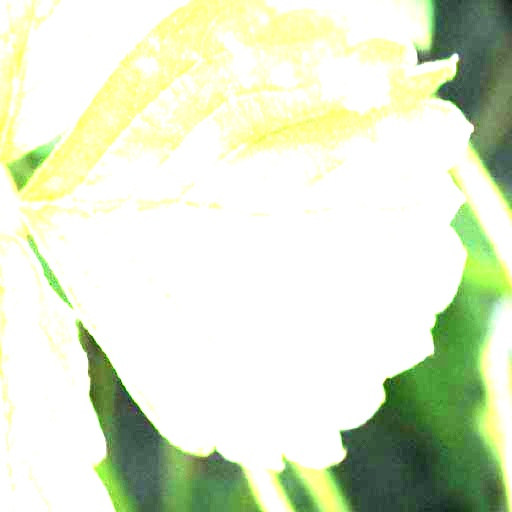Powdery Mildew Leaf: (15, 0, 472, 471)
